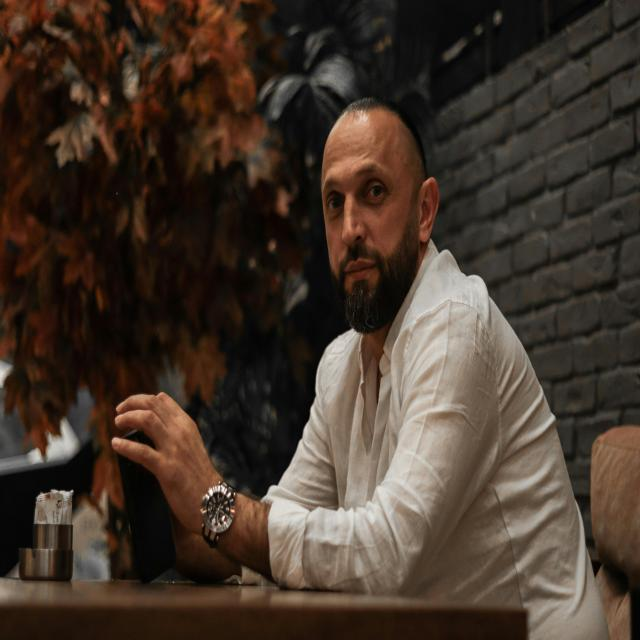human: (110, 74, 611, 640)
